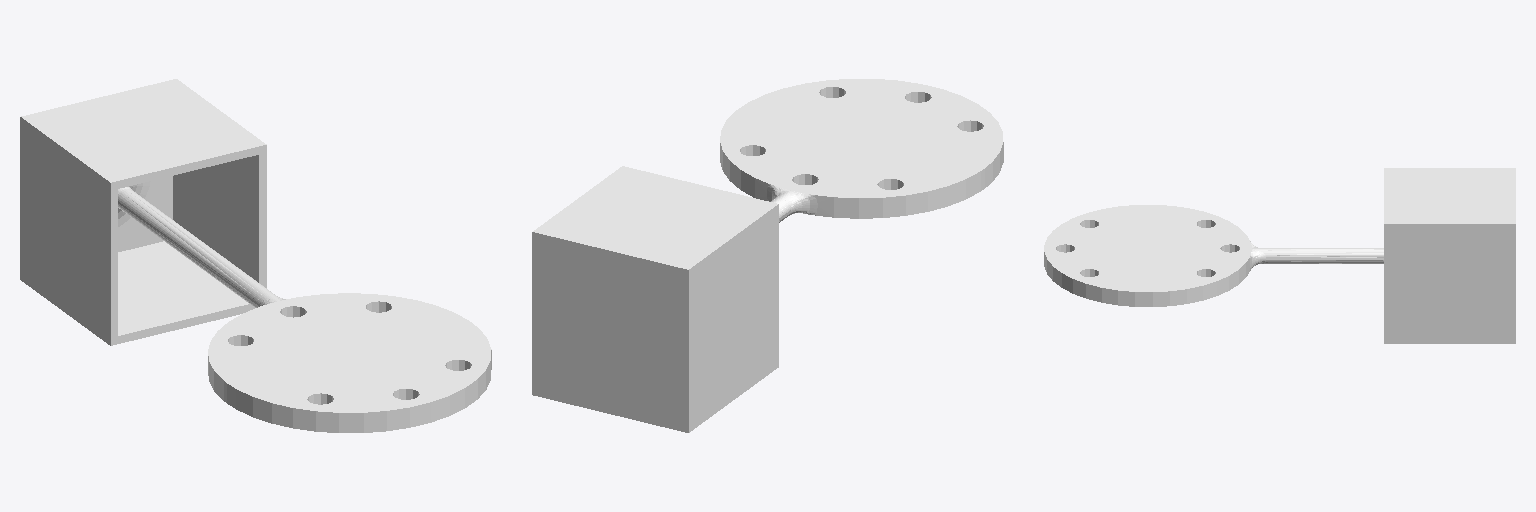
URDF robot description (calibration_tool):
<?xml version="1.0" encoding="utf-8"?>
<robot name="calibration_tool">

  <!-- 1) 实体：只在一个 link 上保留 mesh/collision/inertial（这里选 base） -->
  <link name="calibration_base_link">
    <inertial>
      <origin xyz="8.68737263231918E-11 0.0497527045553807 0.00249999998593278" rpy="0 0 0"/>
      <mass value="0.031694702045305"/>
      <inertia ixx="7.92231294487921E-05" ixy="3.02800948370523E-15" ixz="-4.01660599408829E-15"
               iyy="1.01746769831227E-05" iyz="-6.07540568485497E-15" izz="8.28804530559537E-05"/>
    </inertial>
    <visual>
      <origin xyz="0 0 0" rpy="0 0 0"/>
      <geometry>
        <mesh filename="package://zlab_tools_description/tools/calibration_tool/meshes/visual/calibration_base_link.STL"/>
      </geometry>
      <material name="">
        <color rgba="1 1 1 1"/>
      </material>
    </visual>
    <collision>
      <origin xyz="0 0 0" rpy="0 0 0"/>
      <geometry>
        <mesh filename="package://zlab_tools_description/tools/calibration_tool/meshes/collision/calibration_base_link.STL"/>
      </geometry>
    </collision>
  </link>

  <!-- 2) frame-only：ee -->
  <link name="calibration_ee_link"/>
  <joint name="calibration_ee" type="fixed">
    <origin xyz="0 0 0.005" rpy="0 0 0"/>
    <parent link="calibration_base_link"/>
    <child link="calibration_ee_link"/>
  </joint>

  <!-- 3) frame-only：tcp -->
  <link name="calibration_tcp_link"/>
  <joint name="calibration_tcp" type="fixed">
    <origin xyz="0 0.0915 -0.0025" rpy="0 0 0"/>
    <parent link="calibration_ee_link"/>
    <child link="calibration_tcp_link"/>
  </joint>

  <!-- 五个tcp link -->
  <!-- front_tag: z 朝前，与 tcp 同向 -->
  <link name="front_tag"/>
  <joint name="tcp_to_front_tag" type="fixed">
    <origin xyz="0 0 0.02" rpy="0 0 0"/>
    <parent link="calibration_tcp_link"/>
    <child link="front_tag"/>
  </joint>

  <!-- back_tag: z 朝后，绕 y 轴转 pi -->
  <link name="back_tag"/>
  <joint name="tcp_to_back_tag" type="fixed">
    <origin xyz="0 0 -0.02" rpy="0 3.141592653589793 0"/>
    <parent link="calibration_tcp_link"/>
    <child link="back_tag"/>
  </joint>

  <!-- left_tag: z 朝左（-x），绕 y 轴转 -pi/2 -->
  <link name="left_tag"/>
  <joint name="tcp_to_left_tag" type="fixed">
    <origin xyz="-0.02 0 0" rpy="0 -1.5707963267948966 0"/>
    <parent link="calibration_tcp_link"/>
    <child link="left_tag"/>
  </joint>

  <!-- right_tag: z 朝右（+x），绕 y 轴转 +pi/2 -->
  <link name="right_tag"/>
  <joint name="tcp_to_right_tag" type="fixed">
    <origin xyz="0.02 0 0" rpy="0 1.5707963267948966 0"/>
    <parent link="calibration_tcp_link"/>
    <child link="right_tag"/>
  </joint>

  <!-- top_tag: z 朝上（+y），绕 x 轴转 -pi/2 -->
  <link name="top_tag"/>
  <joint name="tcp_to_top_tag" type="fixed">
    <origin xyz="0 0.02 0" rpy="-1.5707963267948966 0 0"/>
    <parent link="calibration_tcp_link"/>
    <child link="top_tag"/>
  </joint>

</robot>

--- Render facts (derived) ---
3 views of the same robot in one strip: view 1: azimuth 30°, elevation 25°; view 2: azimuth 150°, elevation 25°; view 3: azimuth 270°, elevation 25° (orthographic).
Robot: calibration_tool — 8 links, 7 joints (7 fixed); root link calibration_base_link; default pose: every joint at zero.
Visible links, largest first — view 1: calibration_base_link; view 2: calibration_base_link; view 3: calibration_base_link.
Boxes of the visible links, x1,y1,x2,y2 form: calibration_base_link: [20, 79, 491, 432]; calibration_base_link: [532, 79, 1003, 432]; calibration_base_link: [1044, 168, 1515, 343].
Bounding box of the posed robot: 0.063 × 0.1429 × 0.04 m (x, y, z).
1 mesh visuals loaded from 1 distinct referenced files (1 binary STL).
